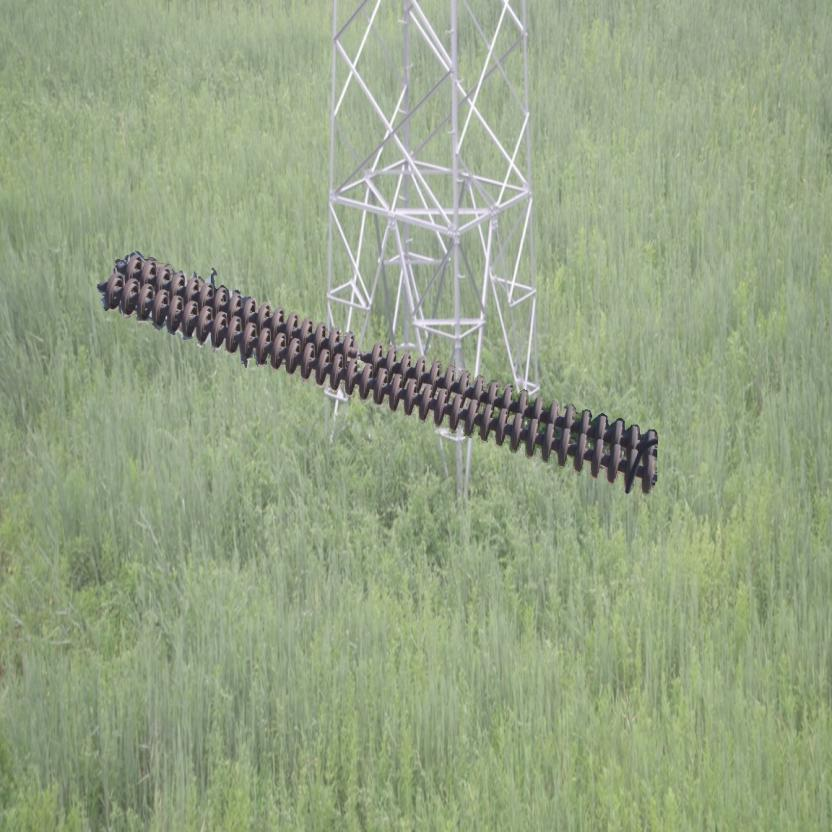defect: (336, 328, 386, 373)
